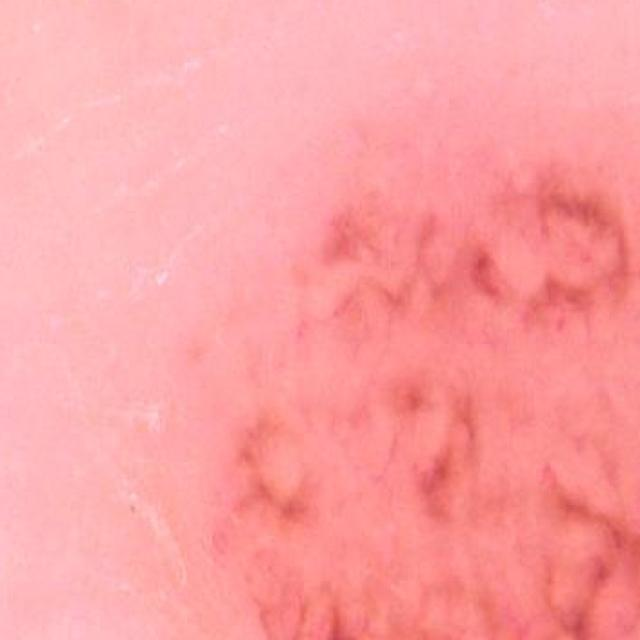NV: (234, 140, 640, 640)
